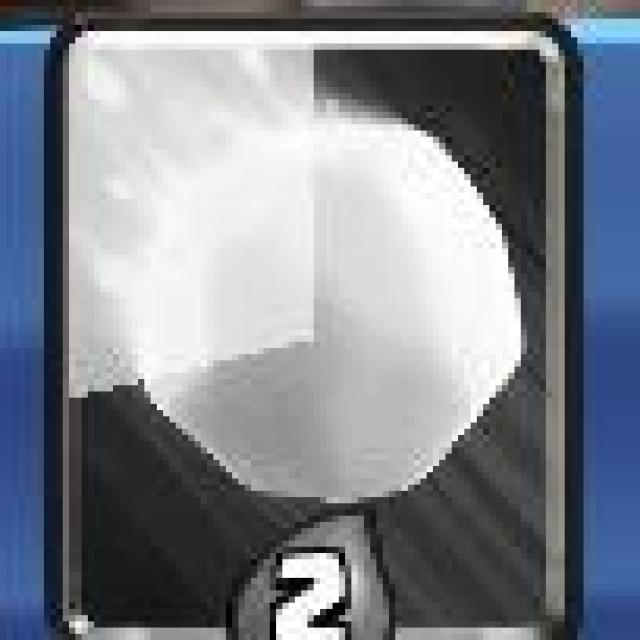Snowball: (49, 17, 582, 639)
